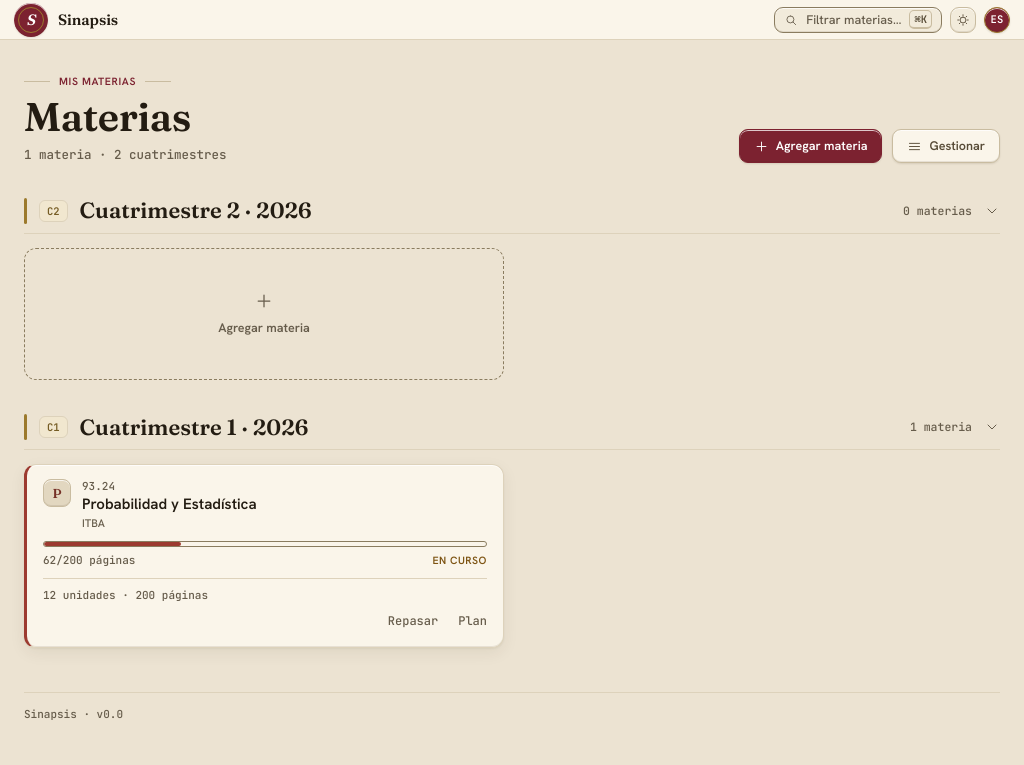
Test: <LandingPage/> · el borrador de gestión (N0-38) › sin cambios, salir de gestión no pregunta nada
This screenshot has width=1024, height=765.
Expected: the element "Cuatrimestre 2 · 2026" is shown, [24,189,1000,380]
Click the button "Gestionar" at (946, 146), box [892,129,1000,163]
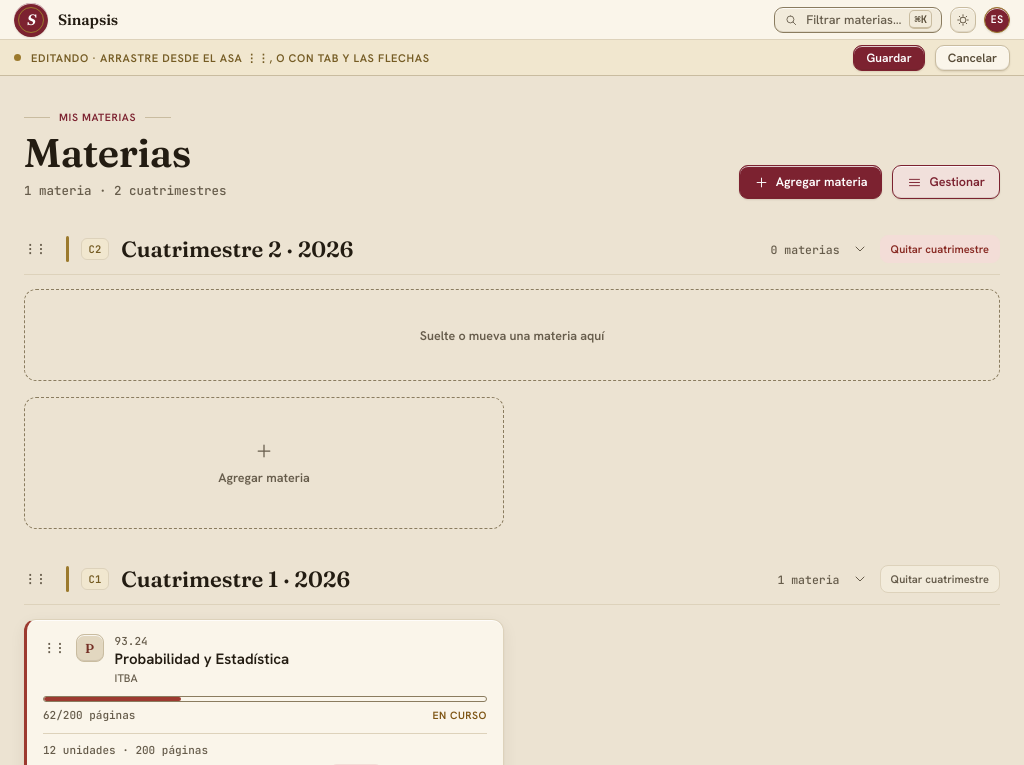
Click the button "Gestionar" at (946, 182), box [892,165,1000,199]
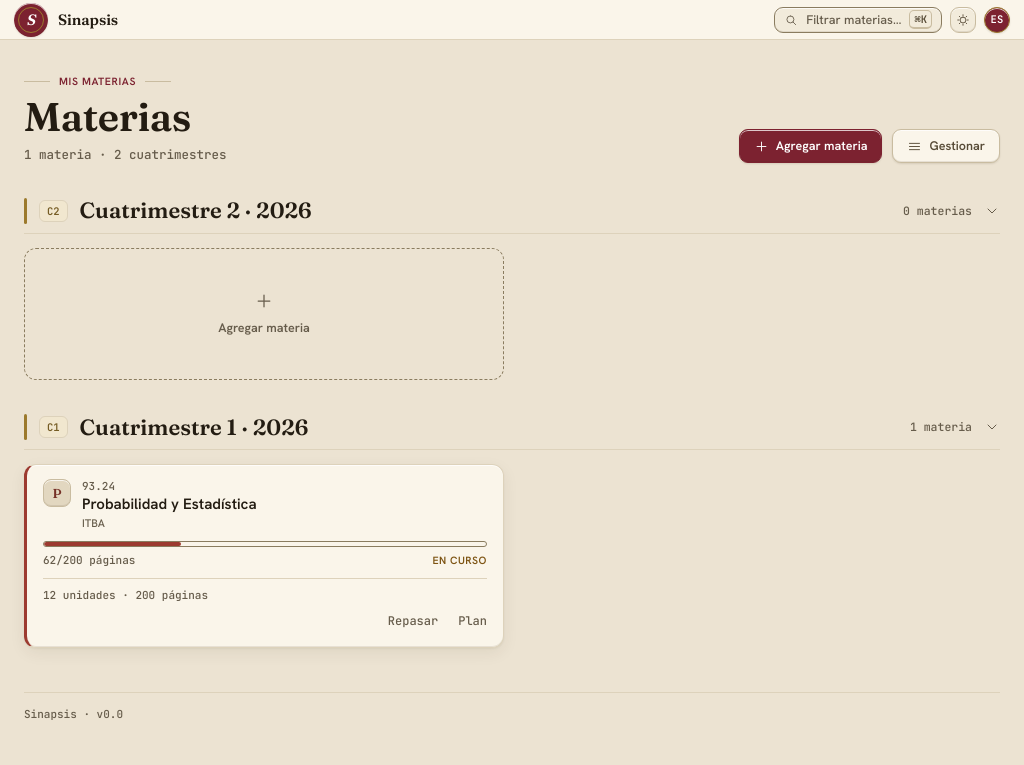
Now the button "Guardar" is gone
